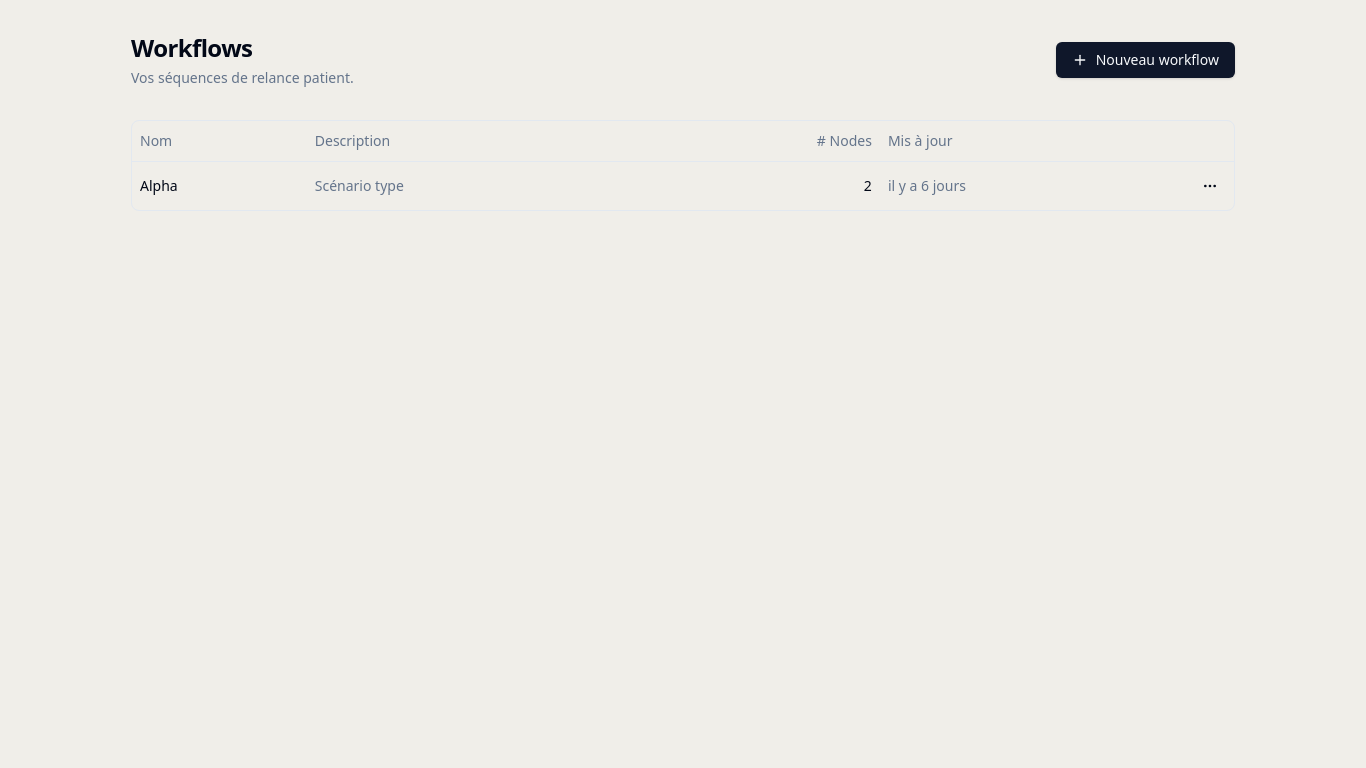
Test case: WorkflowsPage › deletes a workflow after confirmation and removes its row
Expected: the link "Alpha" is shown, [140,176,178,194]
Press Enter in the button named "Actions pour Alpha", box [1194,170,1226,202]
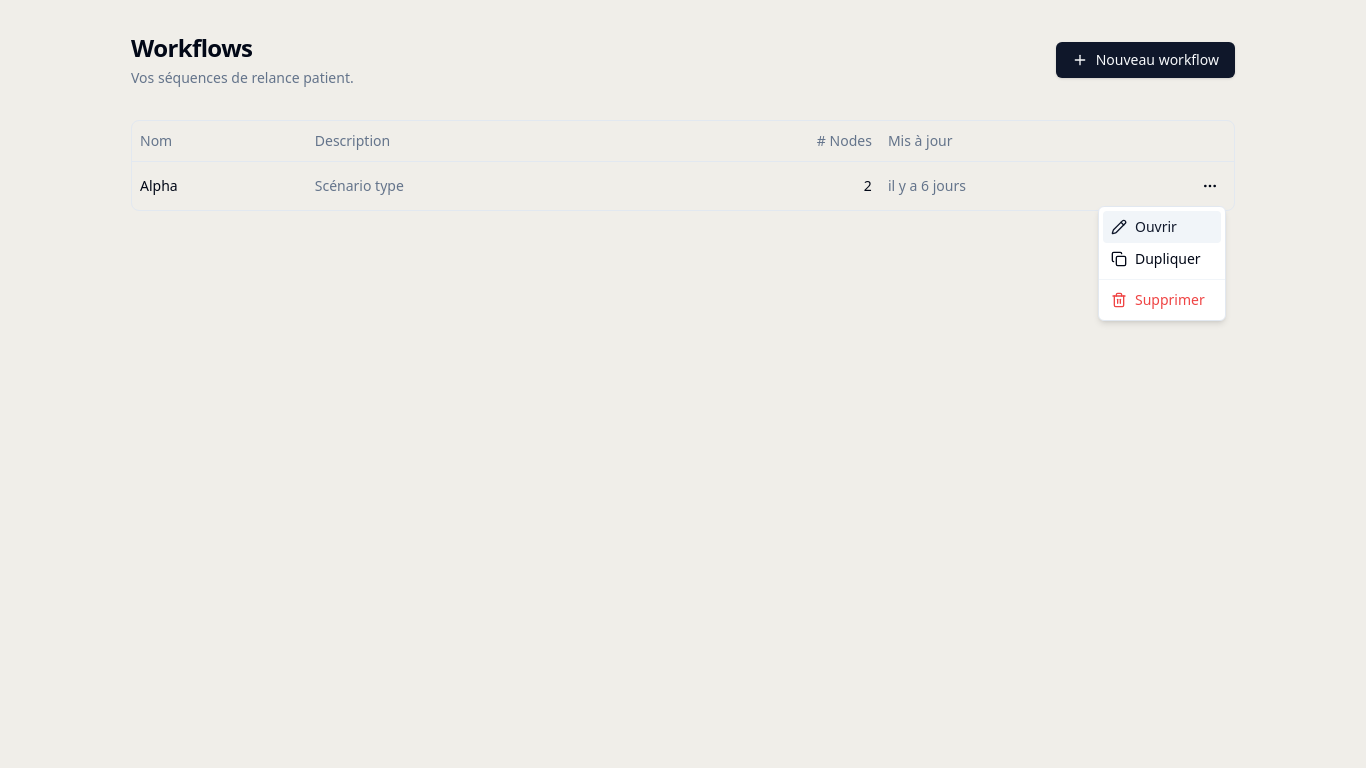
Click the menu item "Supprimer": (1158, 300) [1111,290,1205,309]
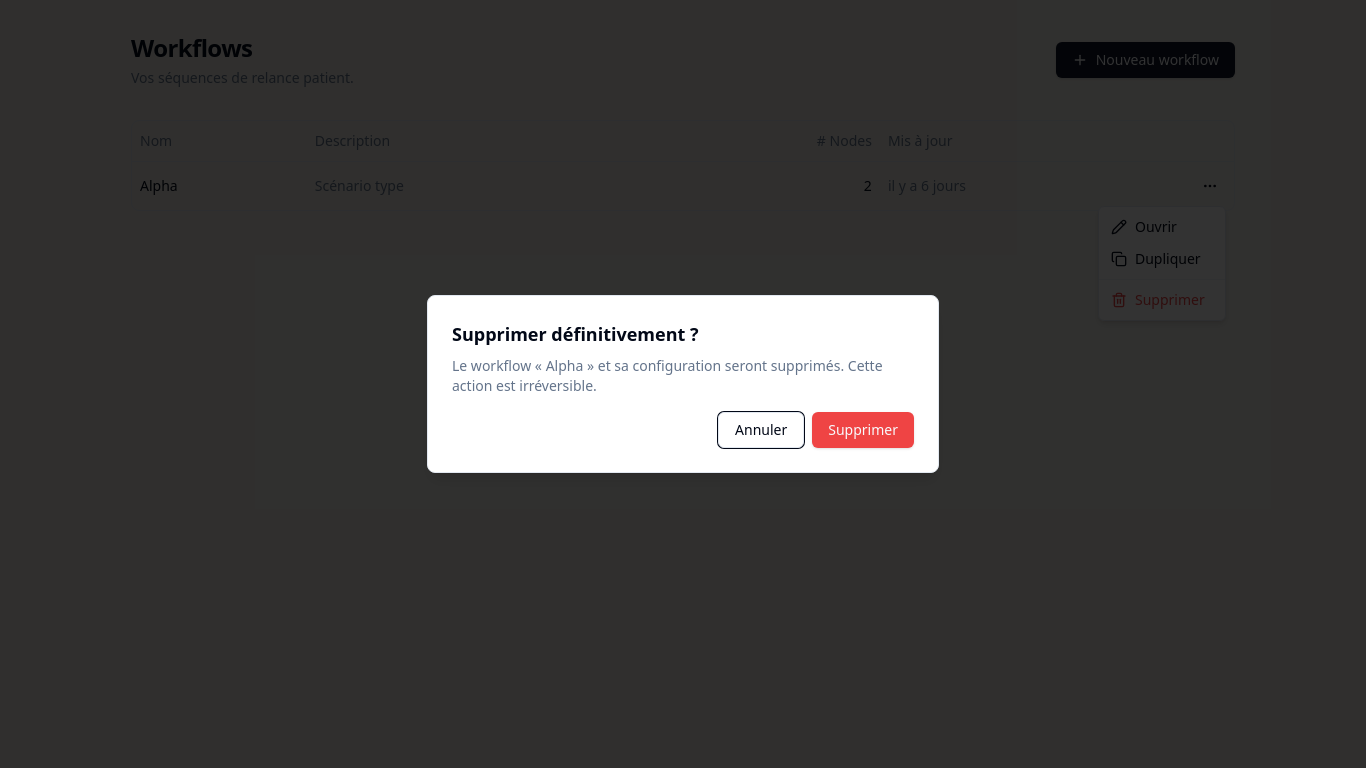
Click the button "Supprimer": (863, 430) [812,412,914,448]
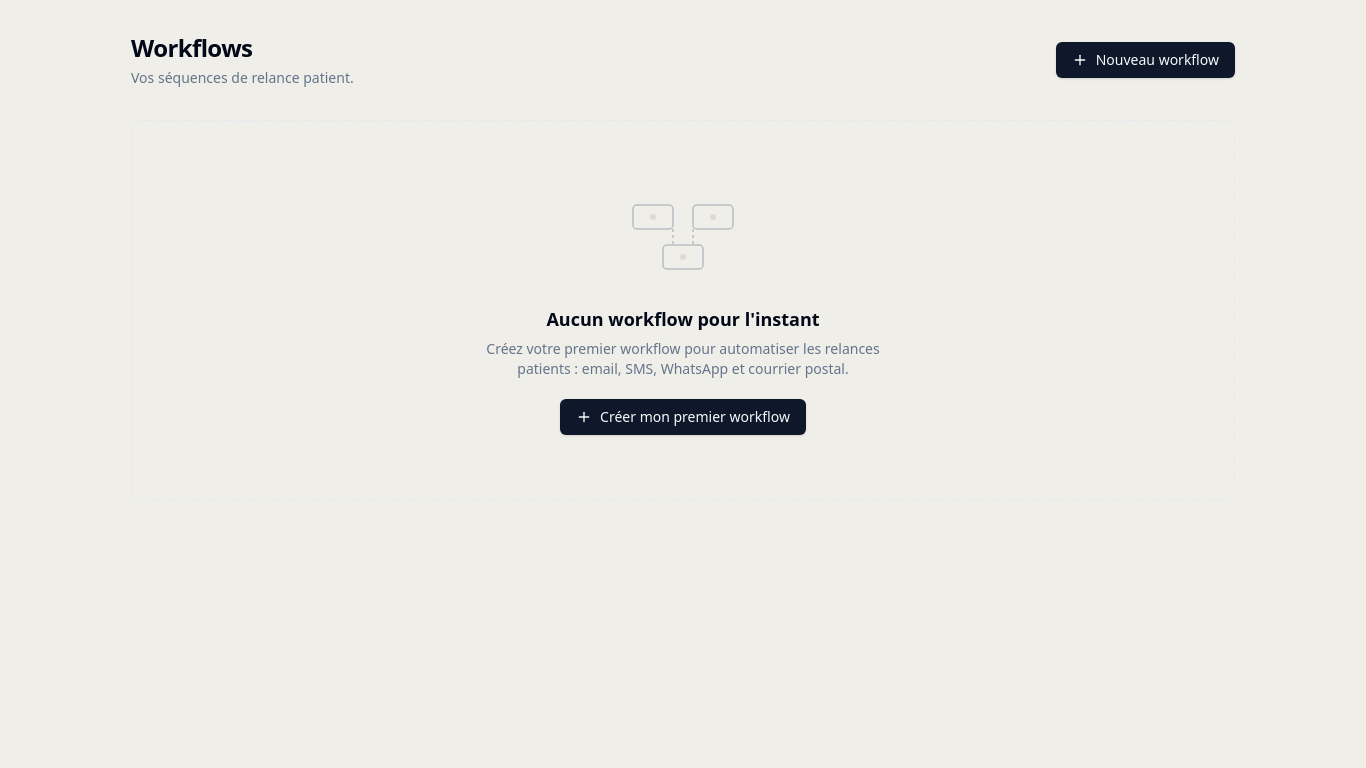
Result: the link "Alpha" is gone
